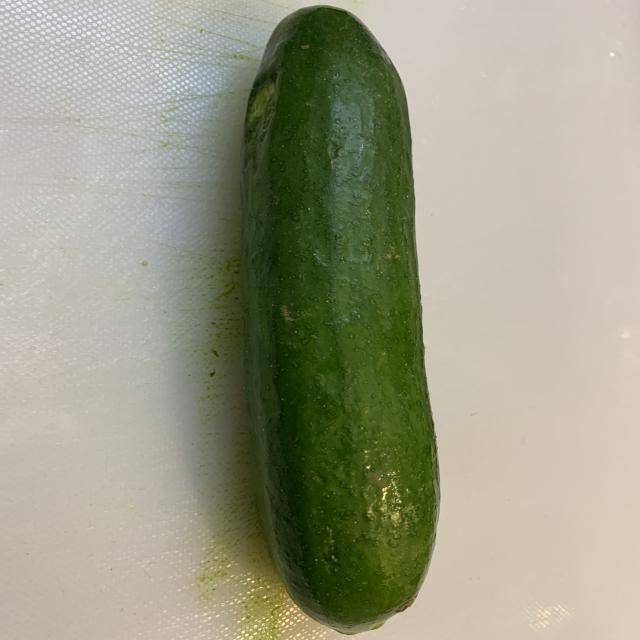Cucumber: (239, 6, 441, 638)
